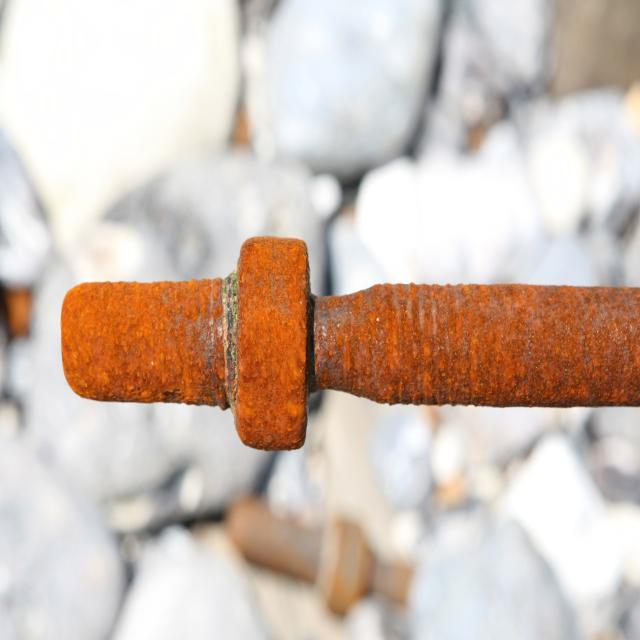corrosion: (59, 226, 640, 456)
